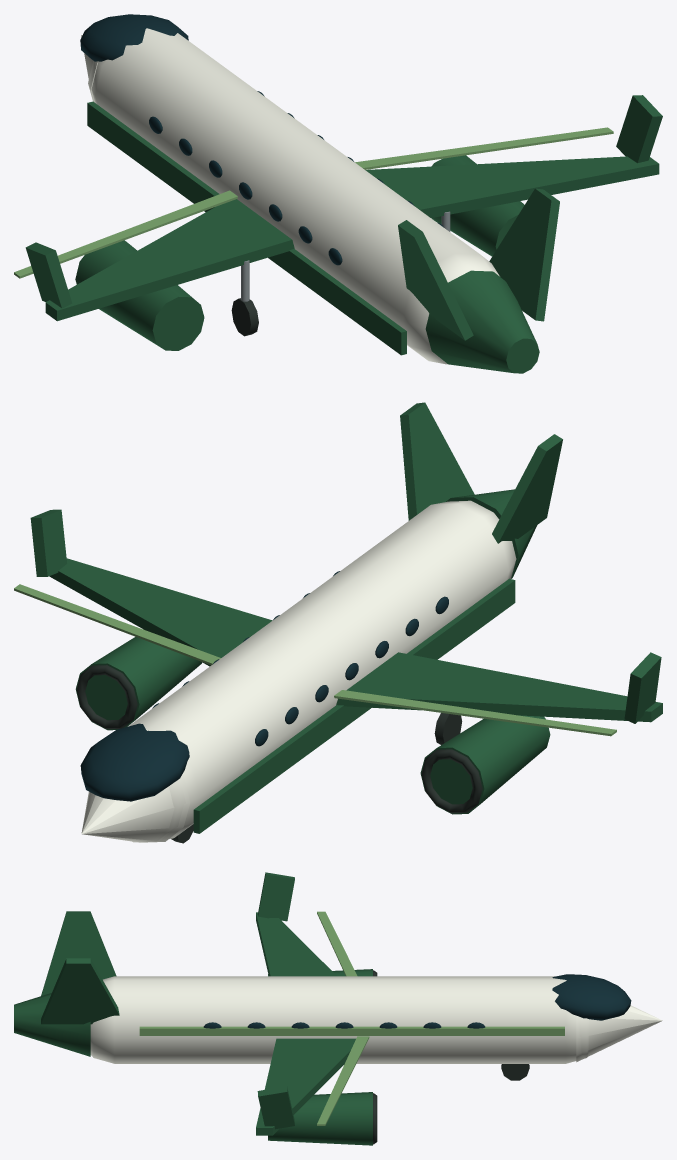
Rendered from private-jet.glb.
The picture shows the model from 3 angles, top to bottom: view 1: azimuth 30°, elevation 25°; view 2: azimuth 150°, elevation 25°; view 3: azimuth 270°, elevation 25°; orthographic projection. The views are drawn at different scales.
Parts seen in each view (by area): view 1: AC_LIVERY_PRIMARY, AC_LIVERY_BASE, AC_LIVERY_ACCENT, AC_GLASS, AC_DARK; view 2: AC_LIVERY_PRIMARY, AC_LIVERY_BASE, AC_GLASS, AC_LIVERY_ACCENT, AC_DARK; view 3: AC_LIVERY_BASE, AC_LIVERY_PRIMARY, AC_LIVERY_ACCENT, AC_GLASS, AC_DARK.
Part boxes in pixels (x1,y1,x2,y2): AC_LIVERY_PRIMARY: (25,95,662,373); AC_LIVERY_BASE: (81,28,499,364); AC_LIVERY_ACCENT: (14,127,613,278); AC_GLASS: (80,14,443,265); AC_DARK: (231,298,258,336); AC_LIVERY_PRIMARY: (30,402,662,833); AC_LIVERY_BASE: (81,500,516,842); AC_GLASS: (80,571,448,801); AC_LIVERY_ACCENT: (14,584,616,736); AC_DARK: (76,665,482,843); AC_LIVERY_BASE: (90,976,662,1063); AC_LIVERY_PRIMARY: (14,872,372,1145); AC_LIVERY_ACCENT: (139,911,564,1125); AC_GLASS: (203,974,631,1028); AC_DARK: (373,970,529,1144).
Size of the model in its own units: 7.32 by 2.28 by 9.15.
